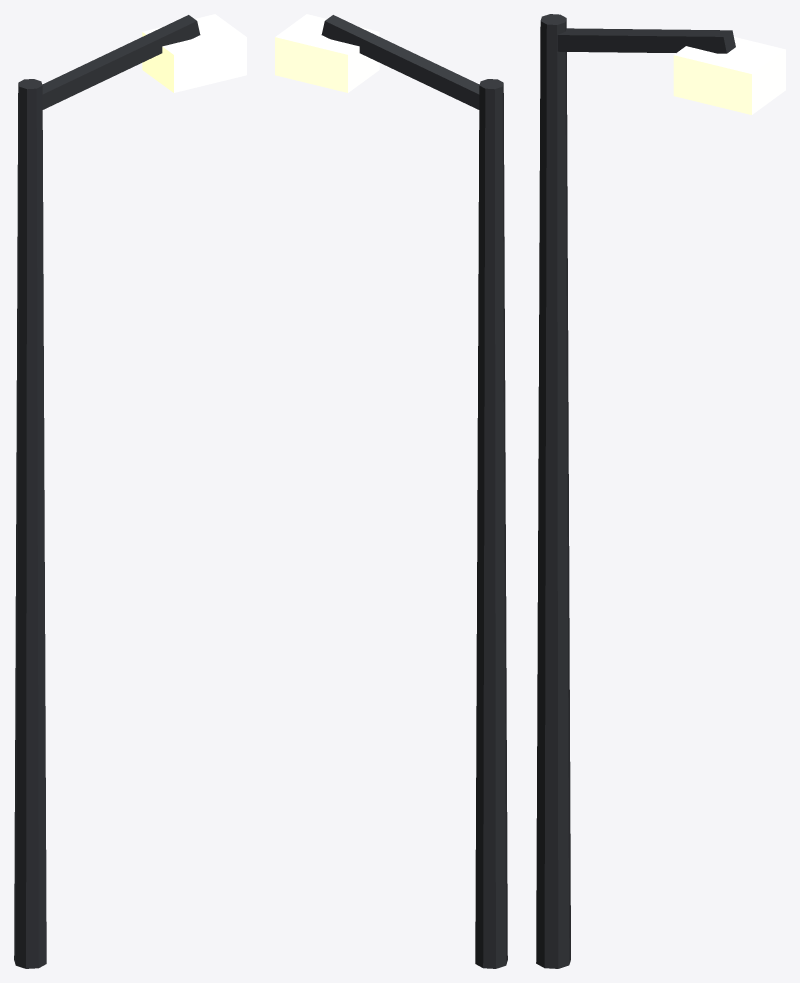
File: lamp_post.glb
3 views of the same model, side by side, from view 1: azimuth 30°, elevation 25°; view 2: azimuth 150°, elevation 25°; view 3: azimuth 330°, elevation 25° (orthographic). The views are drawn at different scales.
Visible parts, largest first — view 1: lamp_post; view 2: lamp_post; view 3: lamp_post.
Part boxes in pixels (box(x1,y1,x2,y2)): lamp_post: box(14, 14, 246, 968); lamp_post: box(275, 14, 507, 968); lamp_post: box(536, 14, 785, 968).
Size of the model in its own units: 1.18 by 4.74 by 0.3.
